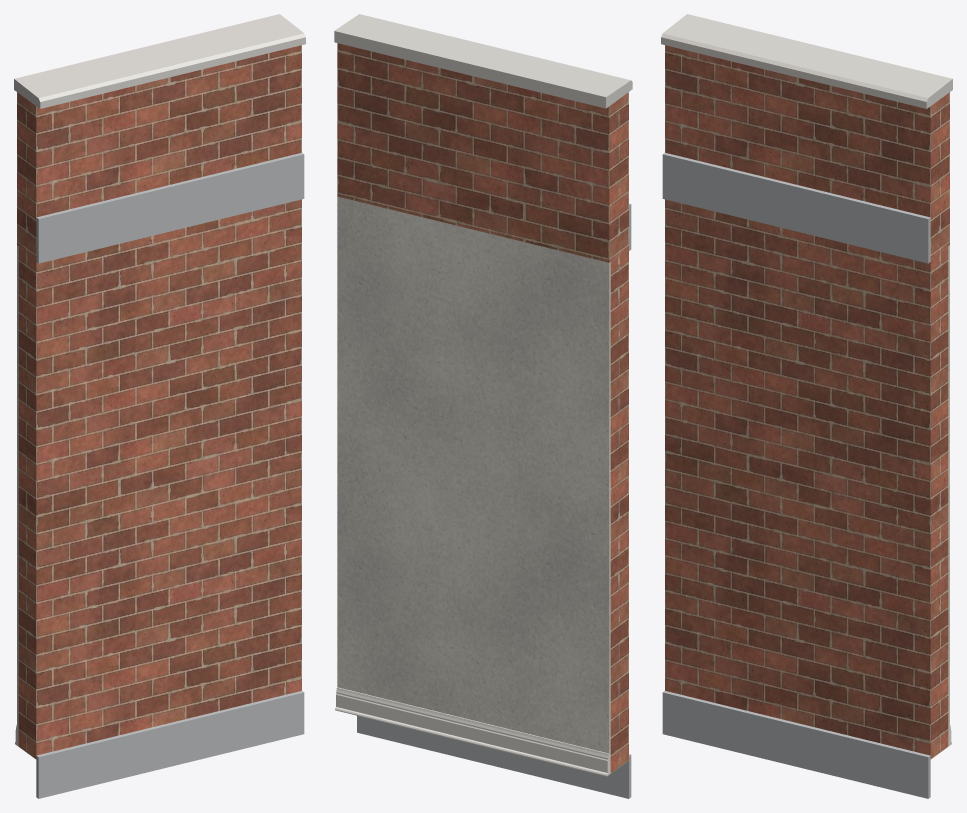
The model's file is pu_plain.glb.
3 views of the same model, side by side, from view 1: azimuth 30°, elevation 25°; view 2: azimuth 150°, elevation 25°; view 3: azimuth 330°, elevation 25° (orthographic). The views are drawn at different scales.
Visible parts, largest first — view 1: pu_plain_brick, pu_plain_band, pu_plain_cill, pu_plain_plaster; view 2: pu_plain_plaster, pu_plain_brick, pu_plain_cill, molduras, pu_plain_band; view 3: pu_plain_brick, pu_plain_band, pu_plain_cill, pu_plain_plaster.
Boxes of the visible parts, left/top/right/bottom form: pu_plain_brick: left=17, top=45, right=301, bottom=759; pu_plain_band: left=36, top=152, right=304, bottom=798; pu_plain_cill: left=14, top=14, right=305, bottom=108; pu_plain_plaster: left=17, top=245, right=18, bottom=746; pu_plain_plaster: left=337, top=196, right=610, bottom=774; pu_plain_brick: left=337, top=43, right=628, bottom=773; pu_plain_cill: left=334, top=14, right=632, bottom=108; molduras: left=335, top=687, right=609, bottom=776; pu_plain_band: left=357, top=203, right=631, bottom=798; pu_plain_brick: left=665, top=45, right=949, bottom=759; pu_plain_band: left=662, top=152, right=930, bottom=798; pu_plain_cill: left=661, top=14, right=952, bottom=108; pu_plain_plaster: left=948, top=245, right=949, bottom=746.
Size of the model in its own units: 2 by 5.05 by 0.34.
Materials: 5 (2 with a texture image).
